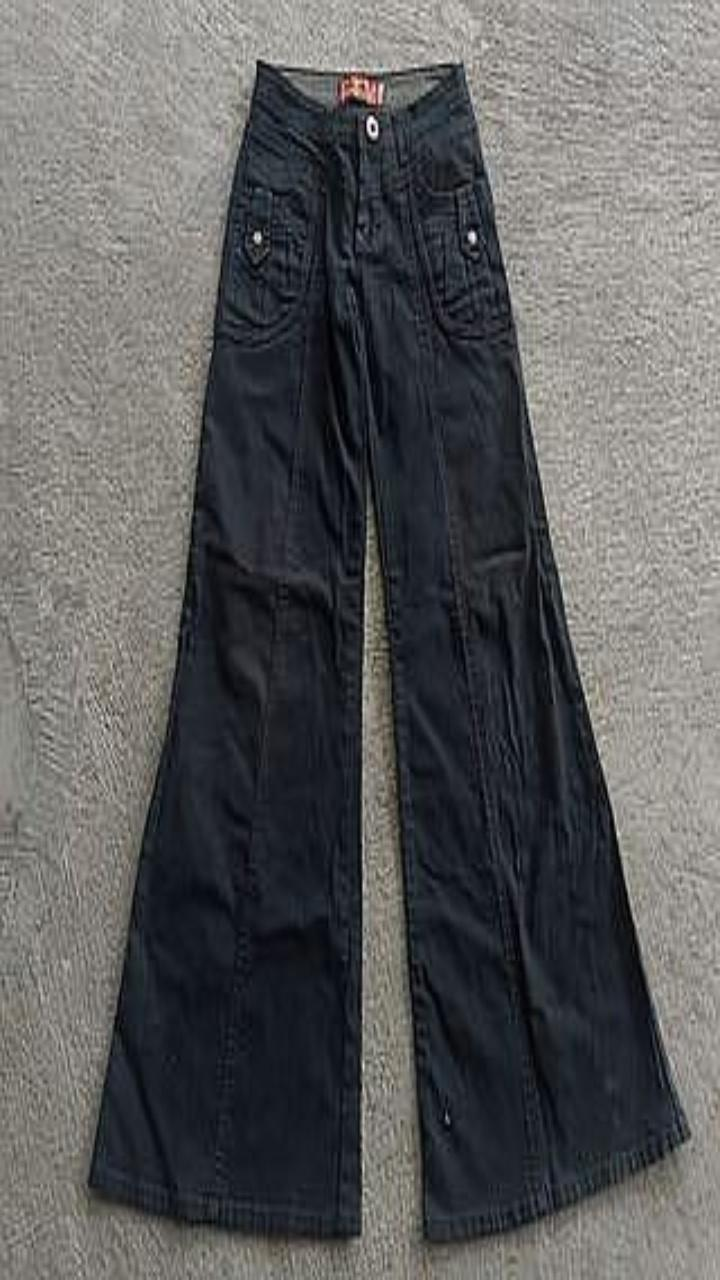Jeans: (89, 59, 689, 1239)
